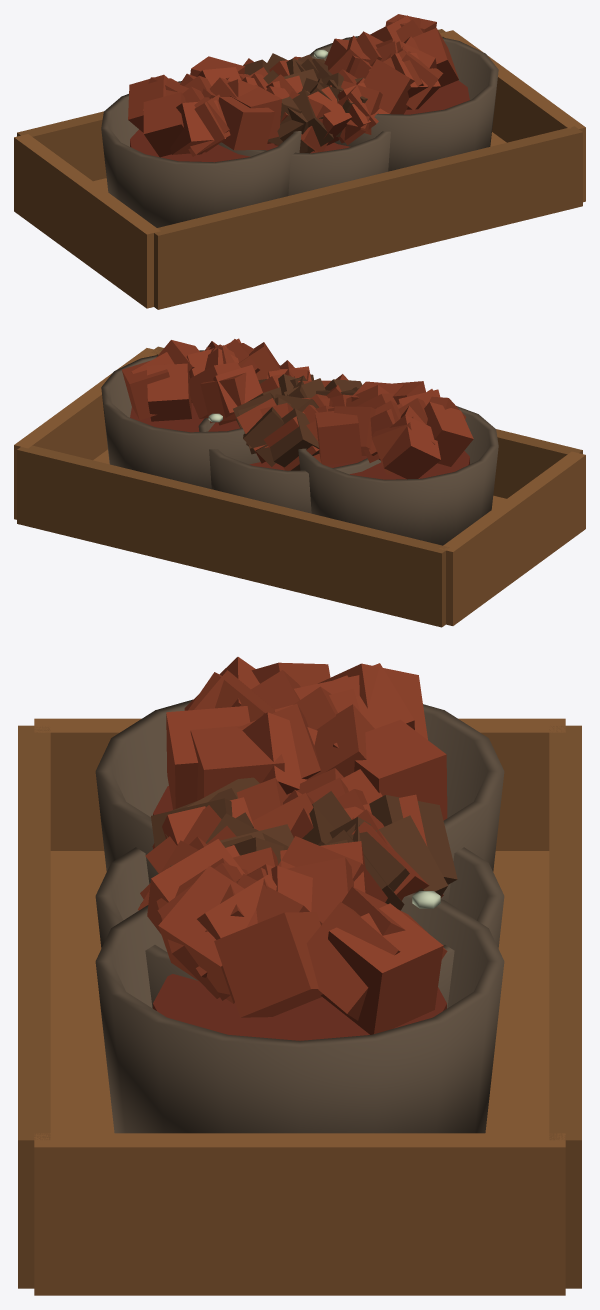
Rendered from Meat_Steamed.fbx.
3 views of the same model, one above another, from view 1: azimuth 30°, elevation 25°; view 2: azimuth 150°, elevation 25°; view 3: azimuth 270°, elevation 25° (orthographic). The views are drawn at different scales.
Parts seen in each view (by area): view 1: Meat_Steamed__Stack, Meat_Steamed, Meat_Steamed__Rotten; view 2: Meat_Steamed__Stack, Meat_Steamed, Meat_Steamed__Rotten; view 3: Meat_Steamed__Stack, Meat_Steamed, Meat_Steamed__Rotten.
Boxes of the visible parts, x1=… form: Meat_Steamed__Stack: x1=14, y1=14, x2=585, y2=309; Meat_Steamed: x1=218, y1=56, x2=390, y2=195; Meat_Steamed__Rotten: x1=243, y1=49, x2=367, y2=153; Meat_Steamed__Stack: x1=14, y1=338, x2=585, y2=627; Meat_Steamed: x1=198, y1=360, x2=380, y2=513; Meat_Steamed__Rotten: x1=208, y1=374, x2=362, y2=470; Meat_Steamed__Stack: x1=18, y1=657, x2=581, y2=1295; Meat_Steamed: x1=95, y1=768, x2=504, y2=1008; Meat_Steamed__Rotten: x1=151, y1=777, x2=457, y2=910.
Bounding box in the file's own units: 0.248 × 0.0813 × 0.138.
